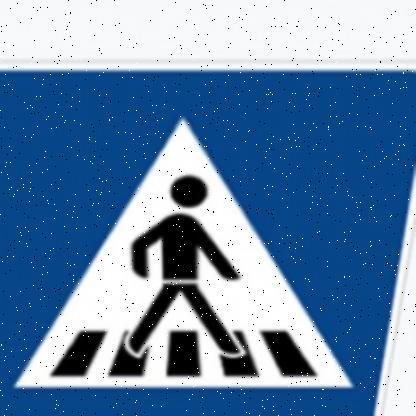Pedestrian Crossing: (1, 58, 416, 416)
